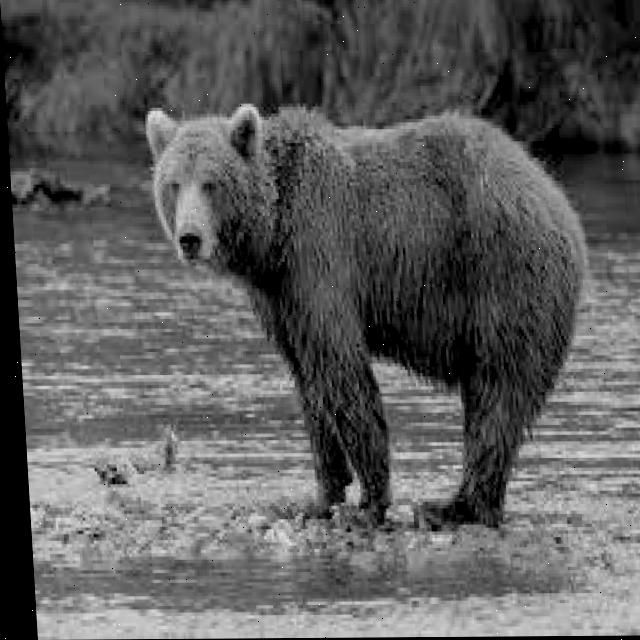Bear: (137, 88, 599, 526)
